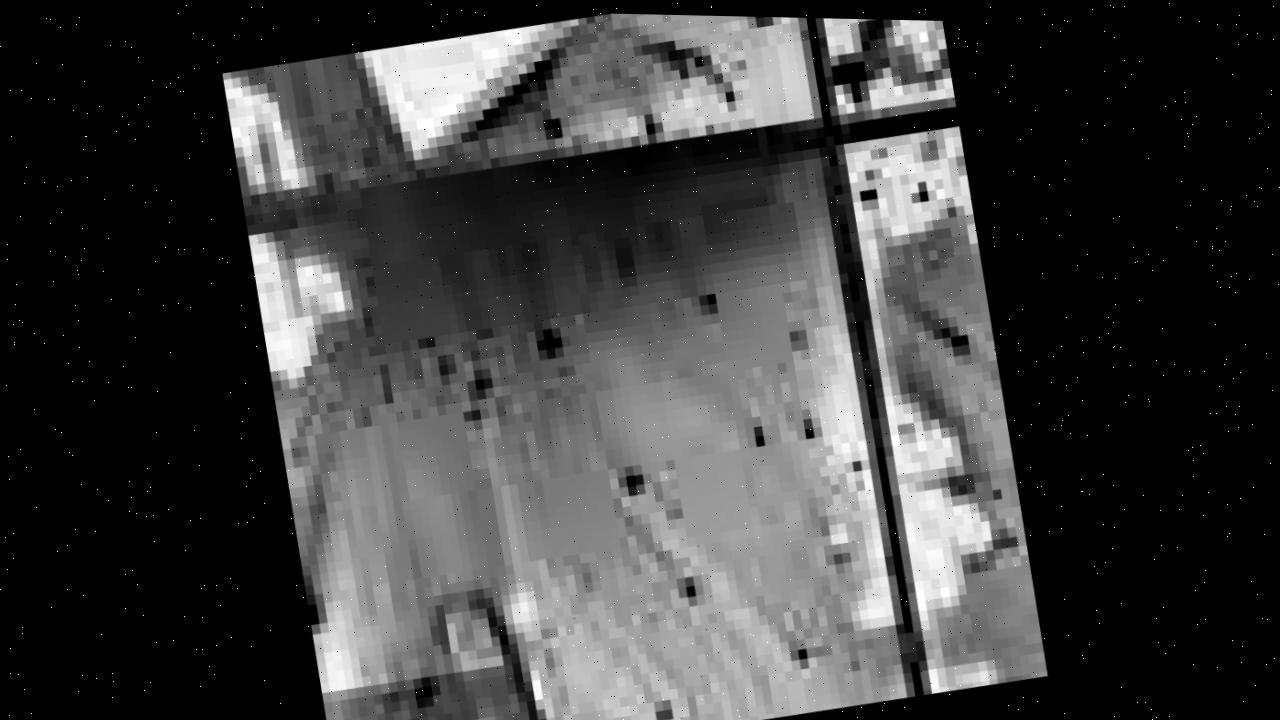drinks Stains: (216, 6, 698, 667), (643, 11, 1056, 719)
